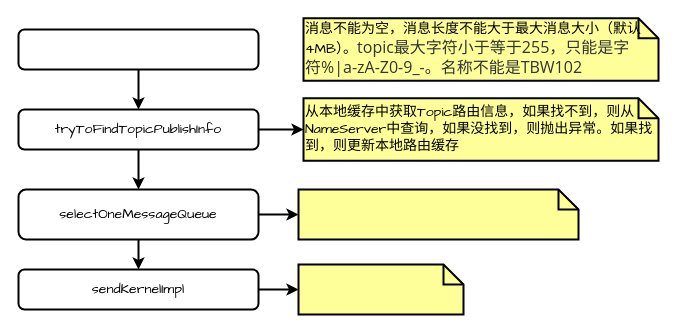
Image size: 676x333. Some labels were removed from this diagram. The centre of each missing label's shape, as x and y in pixels:
"checkMessage和checkTopic" belongs at (138,49).
"发送消息" belongs at (380,289).
"采用故障规避机制，选择一个消息队列" belongs at (438,214).
